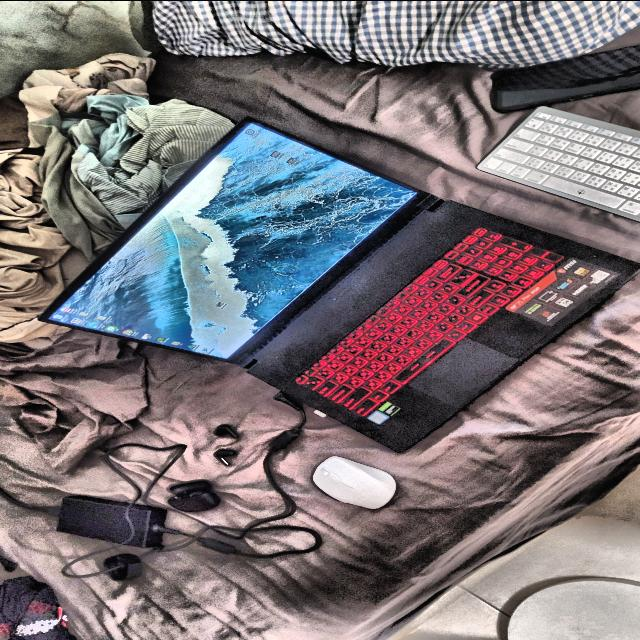Bluetooth headphones: (168, 479, 220, 511), (214, 448, 236, 465), (215, 423, 238, 438)
Keyboard: (477, 105, 640, 221)
Laptop: (41, 118, 638, 451)
MOUSE: (313, 456, 396, 507)
PHONE: (491, 44, 640, 112)
